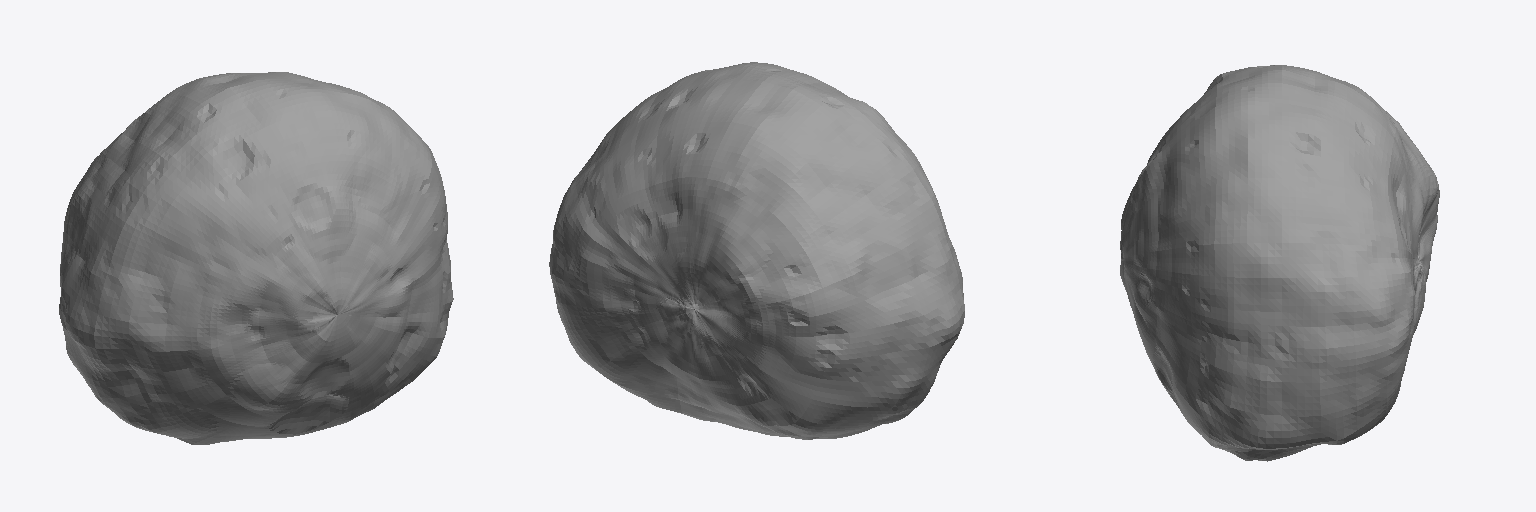
The model's file is phobos.obj.
3 views of the same model, side by side, from view 1: azimuth 30°, elevation 25°; view 2: azimuth 150°, elevation 25°; view 3: azimuth 270°, elevation 25° (orthographic).
Parts seen in each view (by area): view 1: Mesh_phobos; view 2: Mesh_phobos; view 3: Mesh_phobos.
Part boxes in pixels (bbox=[...]): Mesh_phobos: bbox=[59, 72, 453, 444]; Mesh_phobos: bbox=[549, 62, 964, 439]; Mesh_phobos: bbox=[1120, 65, 1439, 461].
Size of the model in its own units: 2.6 by 2.34 by 1.94.